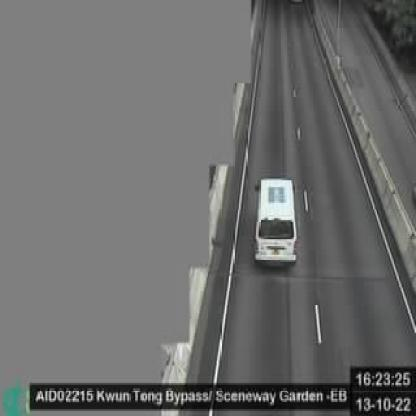Car: (250, 176, 300, 265)
